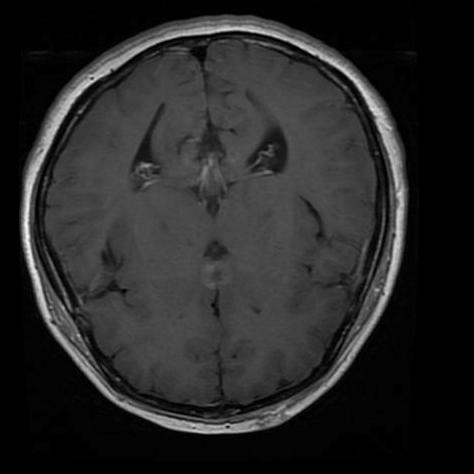Tumour-Pituitary: (198, 254, 235, 288)
